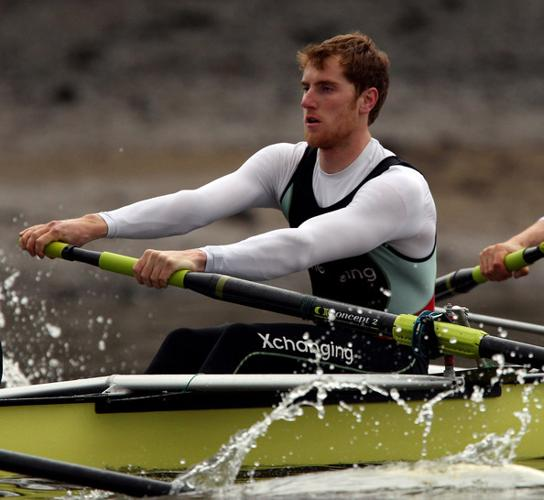person: (18, 30, 441, 375)
